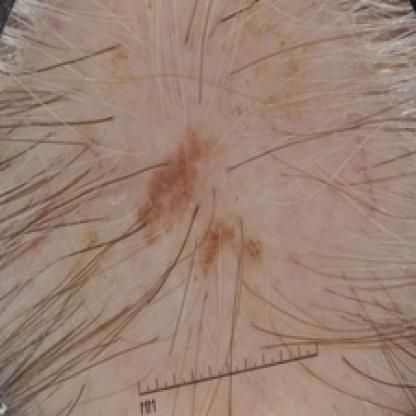malignant: (145, 122, 258, 278)
